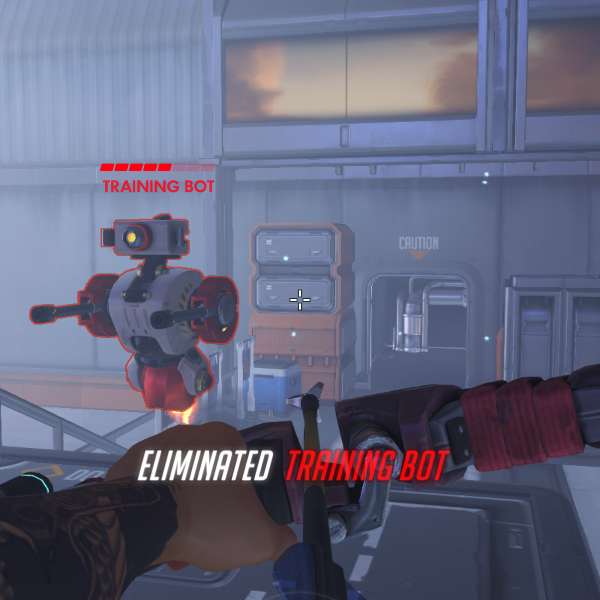hpbar: (100, 163, 216, 172)
